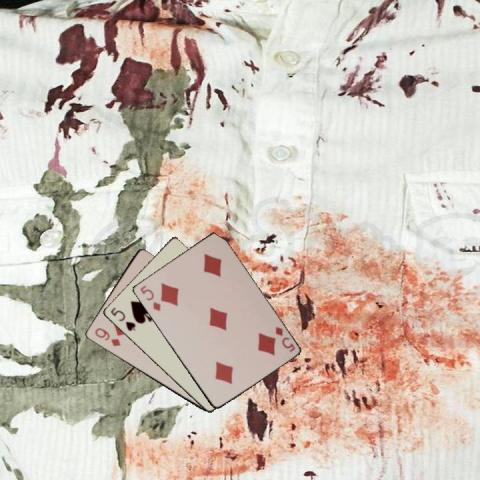5d: (137, 282, 162, 313), (272, 324, 296, 354)
5s: (107, 304, 137, 333)
9d: (91, 325, 122, 348)
